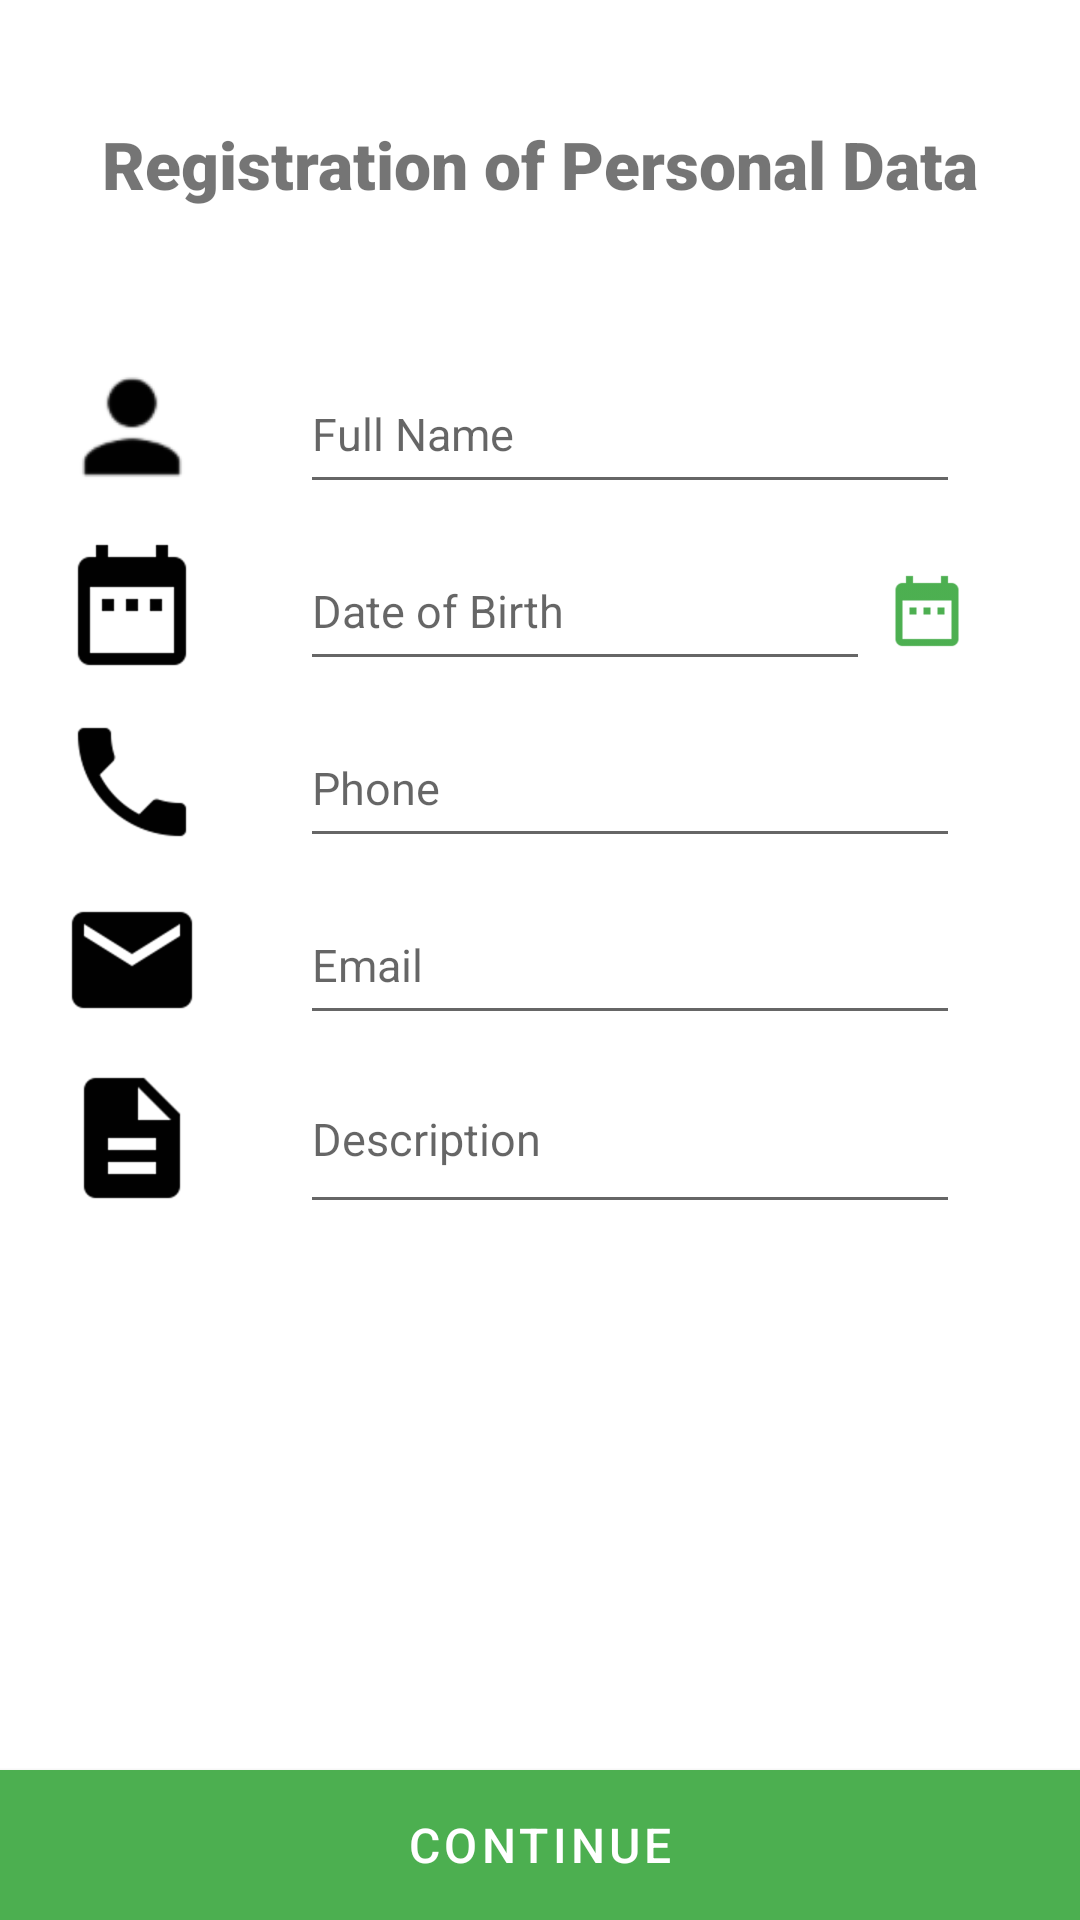

Named icons in this screenshot (1080x1920) and their centers, point (x, y):
date range: point (132, 605), point (927, 611)
